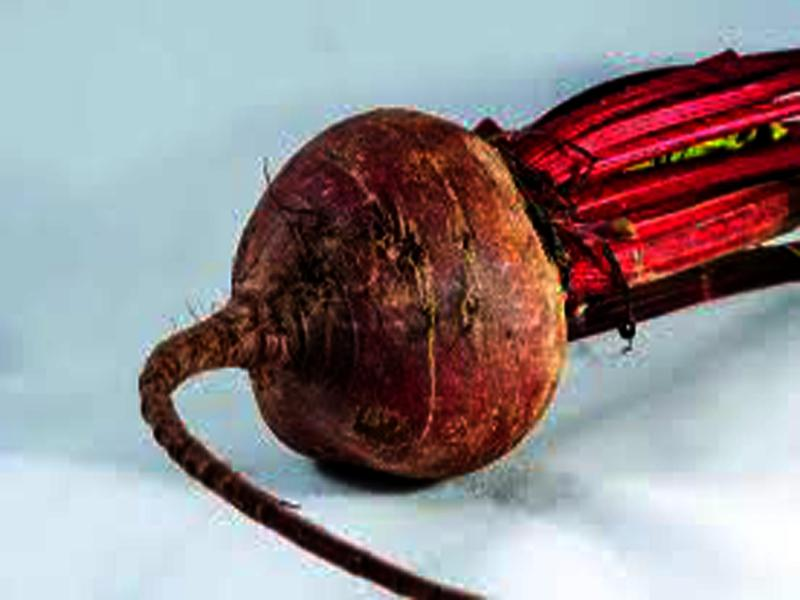Beet: (139, 46, 800, 593)
